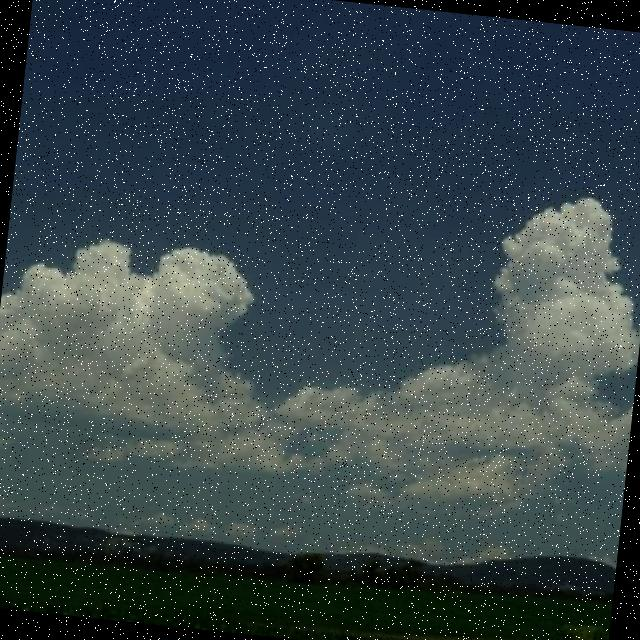Cu: (1, 102, 640, 547)
